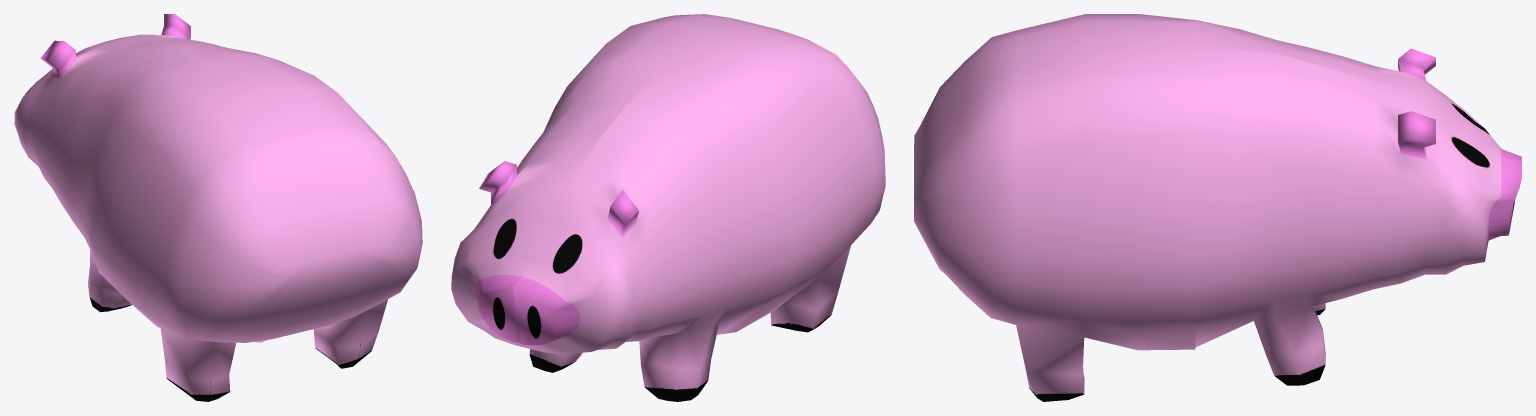
The model's file is buta01.fbx.
3 renders of one model, left to right at view 1: azimuth 30°, elevation 25°; view 2: azimuth 150°, elevation 25°; view 3: azimuth 270°, elevation 25°, orthographic. The views are drawn at different scales.
Visible parts, largest first — view 1: Plane; view 2: Plane; view 3: Plane.
Part boxes in pixels (x1,y1,x2,y2): Plane: (14,14,422,401); Plane: (451,14,885,401); Plane: (914,14,1521,401).
Size of the model in its own units: 8.31 by 8.47 by 14.81.
Materials: 1 (1 with a texture image).
